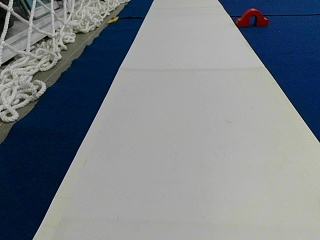bridge: (237, 8, 268, 25)
